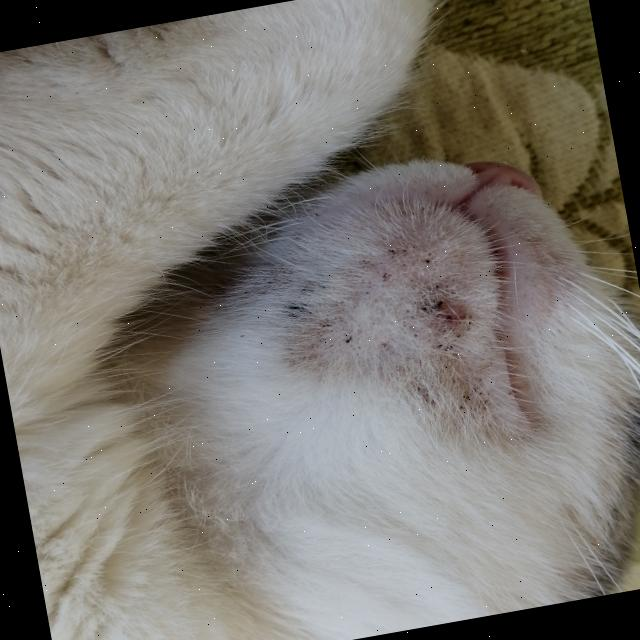cat-acne: (220, 266, 376, 376), (371, 342, 524, 437), (333, 180, 466, 280), (387, 260, 488, 352)
